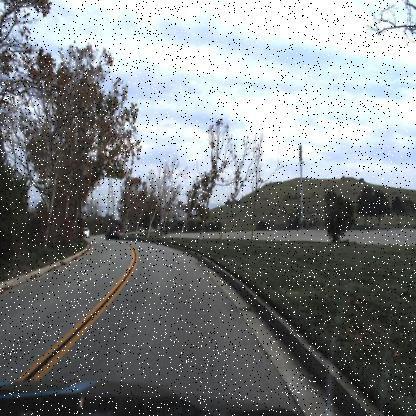car: (103, 222, 123, 243)
